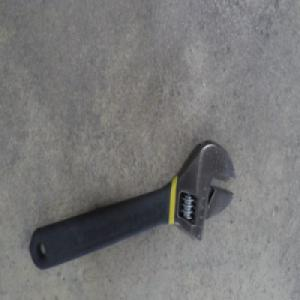AdjustableWrench: (28, 138, 238, 271)
